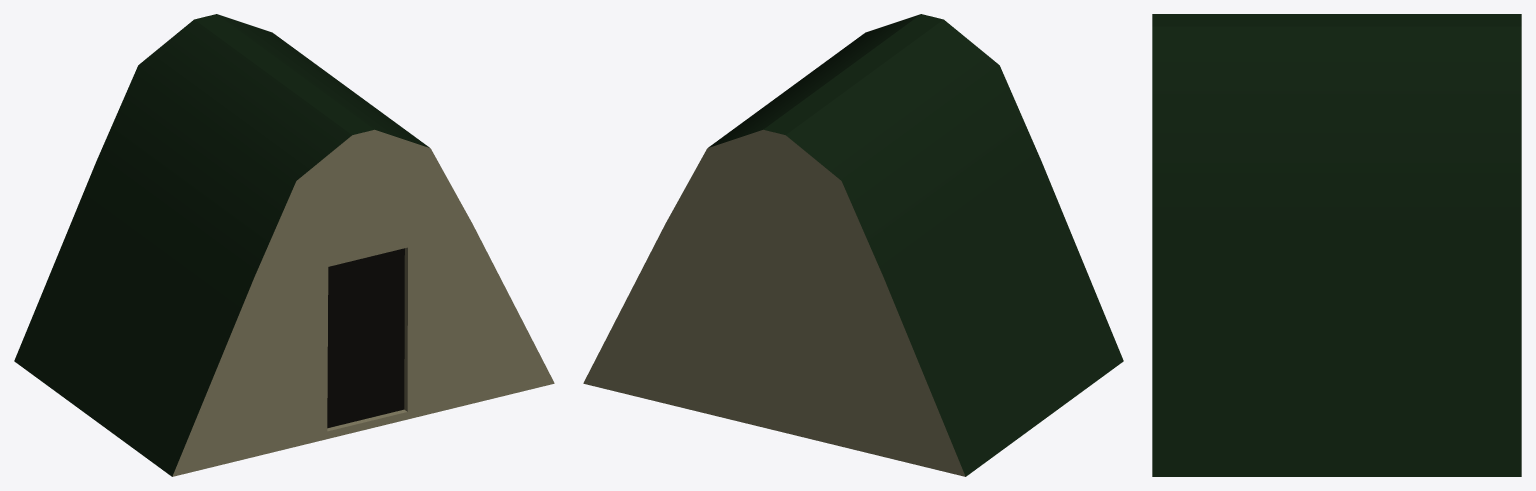
Rendered from House_small_v2.fbx.
3 views of the same model, side by side, from view 1: azimuth 30°, elevation 25°; view 2: azimuth 150°, elevation 25°; view 3: azimuth 270°, elevation 25° (orthographic). The views are drawn at different scales.
Parts seen in each view (by area): view 1: House9; view 2: House9; view 3: House9.
Part boxes in pixels (<box>): House9: <box>14,14,554,476</box>; House9: <box>583,14,1123,476</box>; House9: <box>1152,14,1521,476</box>.
Bounding box in the file's own units: 4.87 × 3.63 × 3.49.
